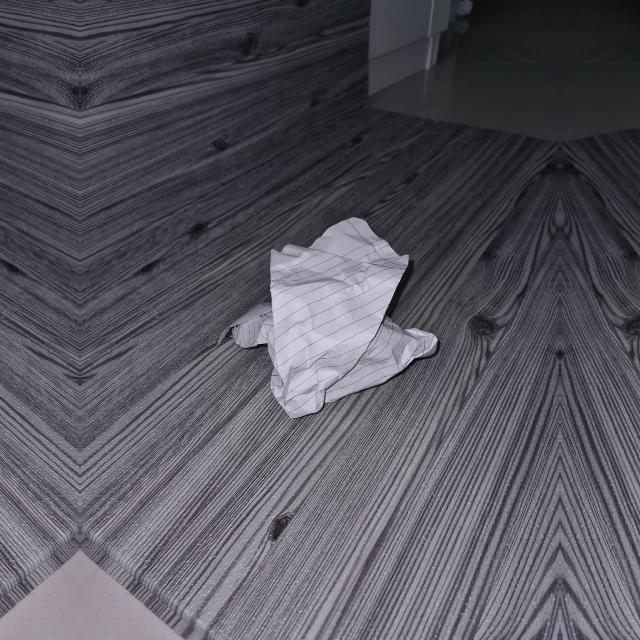paper: (236, 216, 432, 414)
